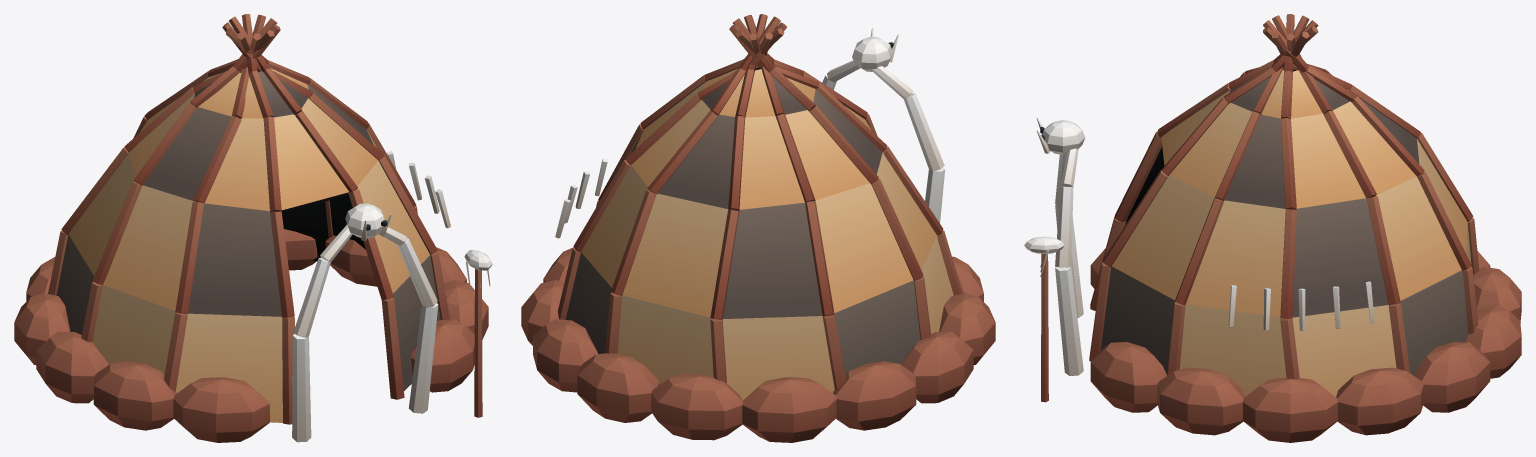
File: troll_hut.glb
The picture shows the model from 3 angles, left to right: view 1: azimuth 30°, elevation 25°; view 2: azimuth 150°, elevation 25°; view 3: azimuth 270°, elevation 25°; orthographic projection.
Parts seen in each view (by area): view 1: troll_hut; view 2: troll_hut; view 3: troll_hut.
Part boxes in pixels (x1,y1,x2,y2): troll_hut: (14, 14, 492, 442); troll_hut: (521, 14, 995, 442); troll_hut: (1024, 14, 1521, 442).
Bounding box in the file's own units: 6.36 × 4.89 × 6.67.
Materials: 1 (1 with a texture image).
